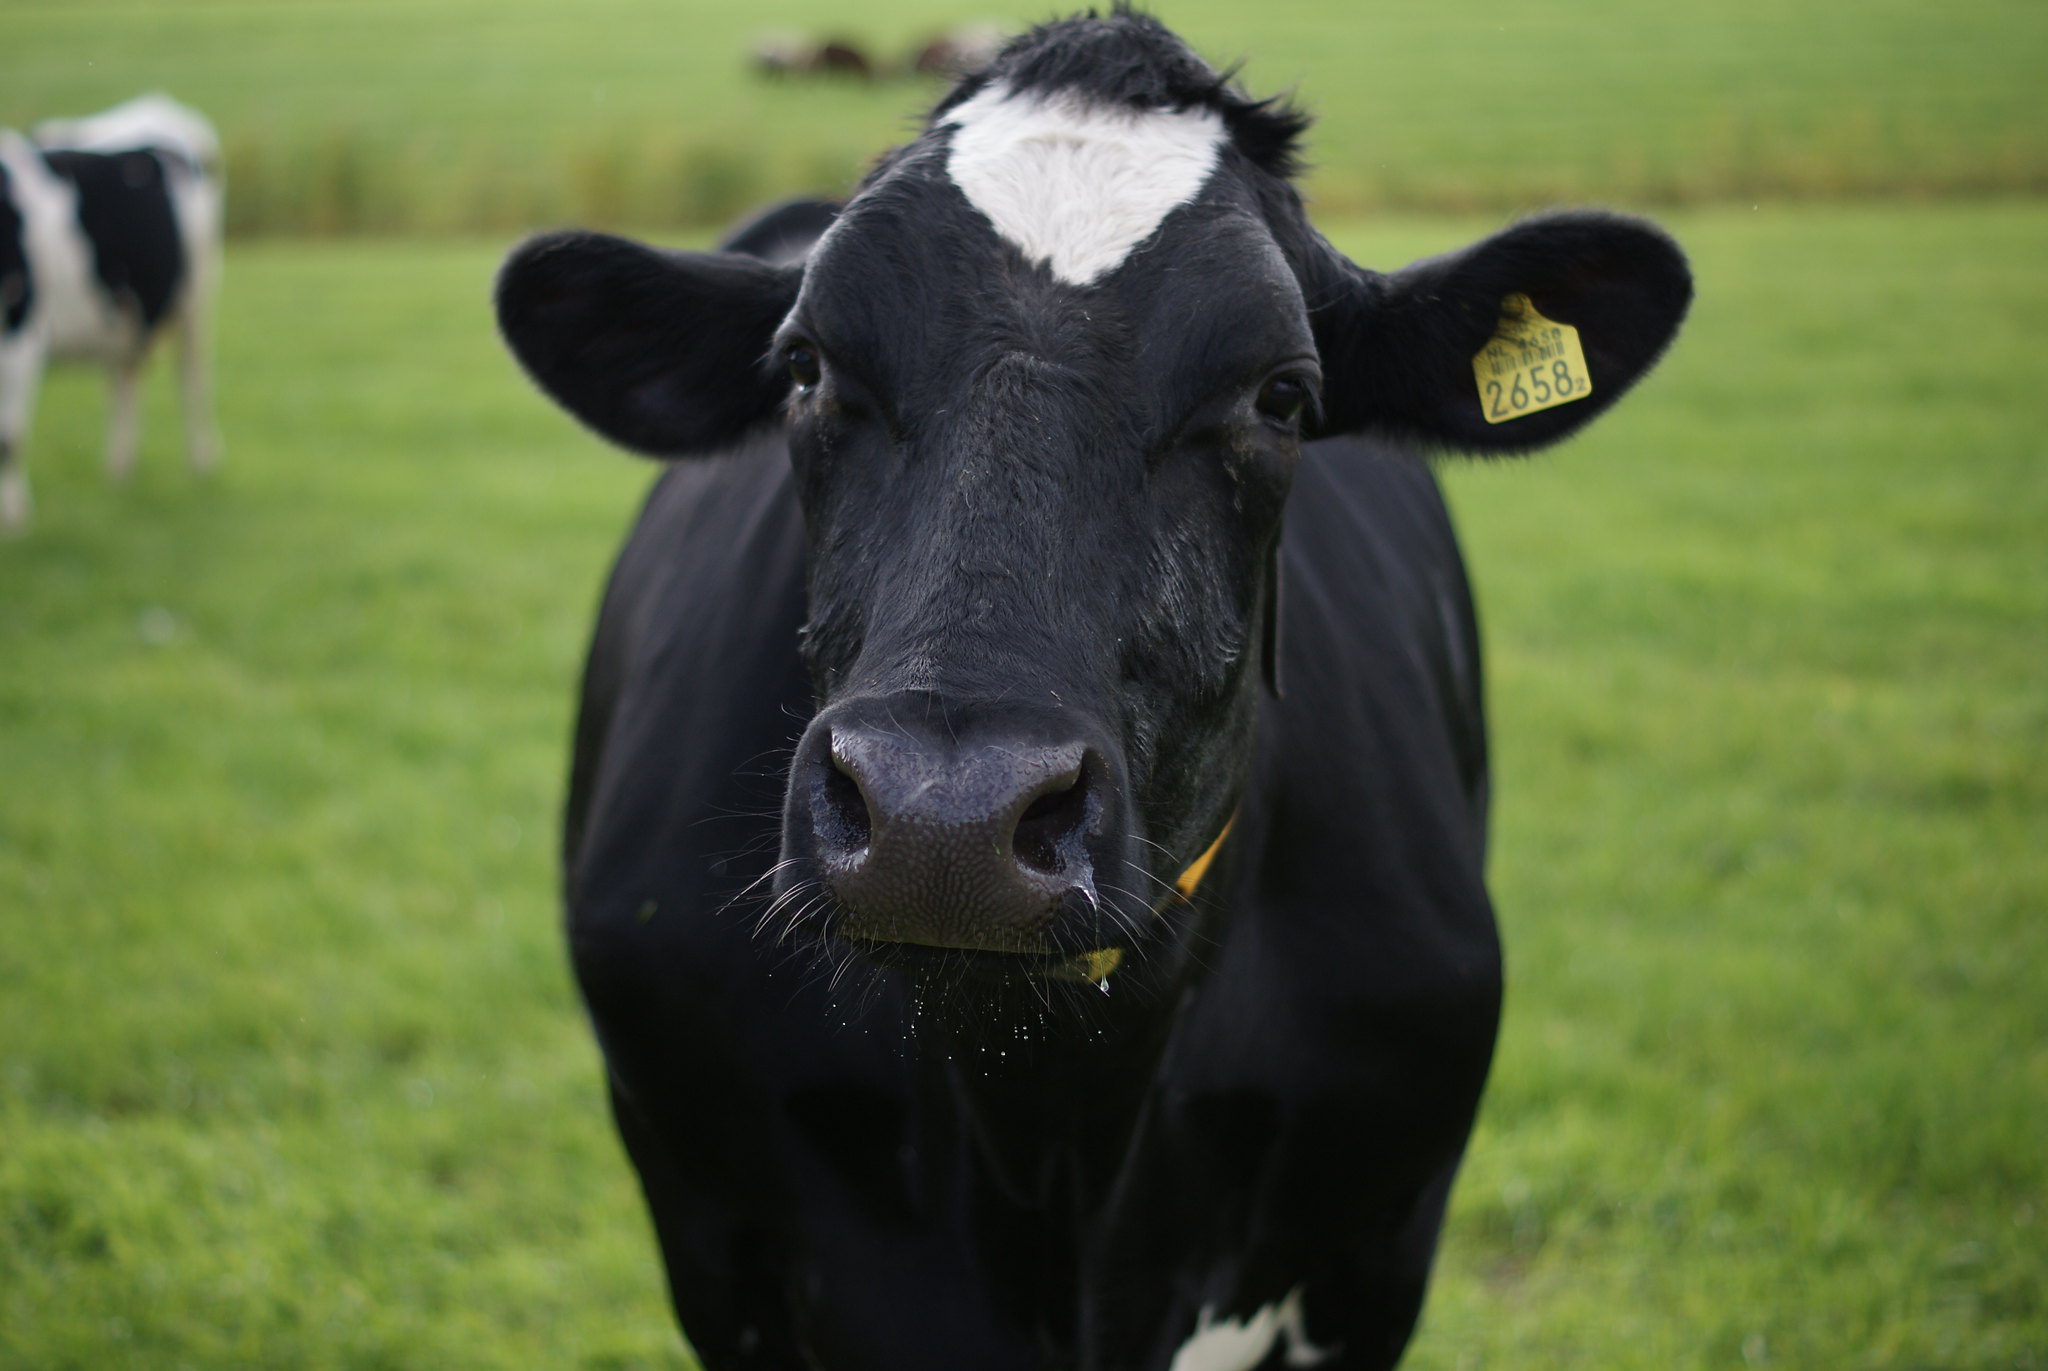cow: (479, 28, 1698, 1371)
